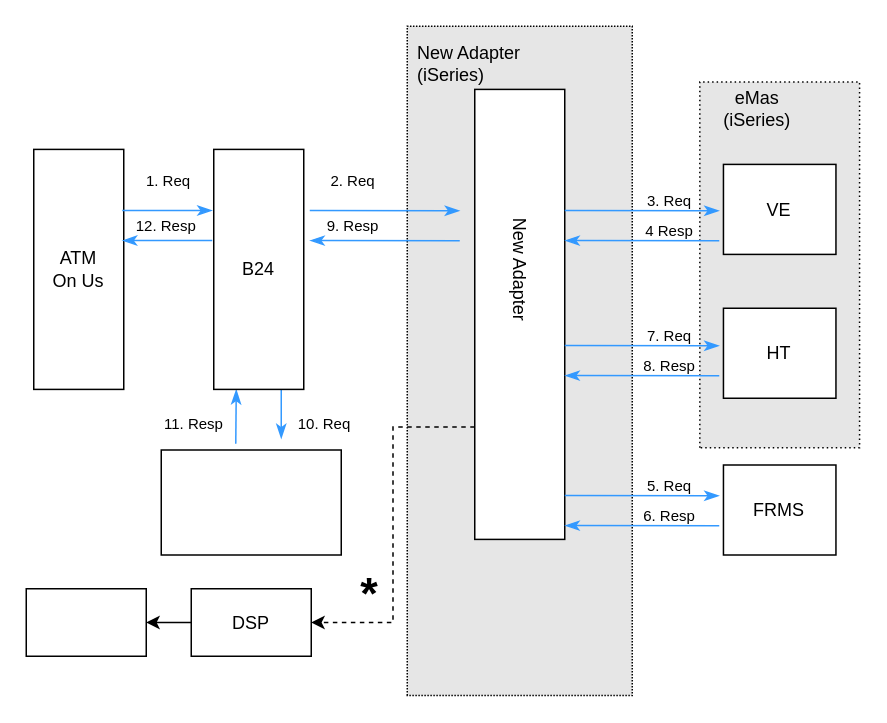
This 887x723 diagram has some shape labels left out. The centre of each missing label's shape, as x and y in pixels:
"Prima / Bersama / Link / BSM / Mantap" goes at (250,501).
"SAMS" goes at (85,621).
